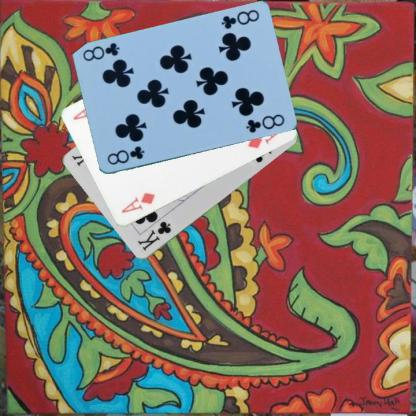8c: (218, 7, 260, 31), (104, 144, 146, 166)
Ad: (118, 190, 156, 215)
Kc: (134, 219, 172, 252)
